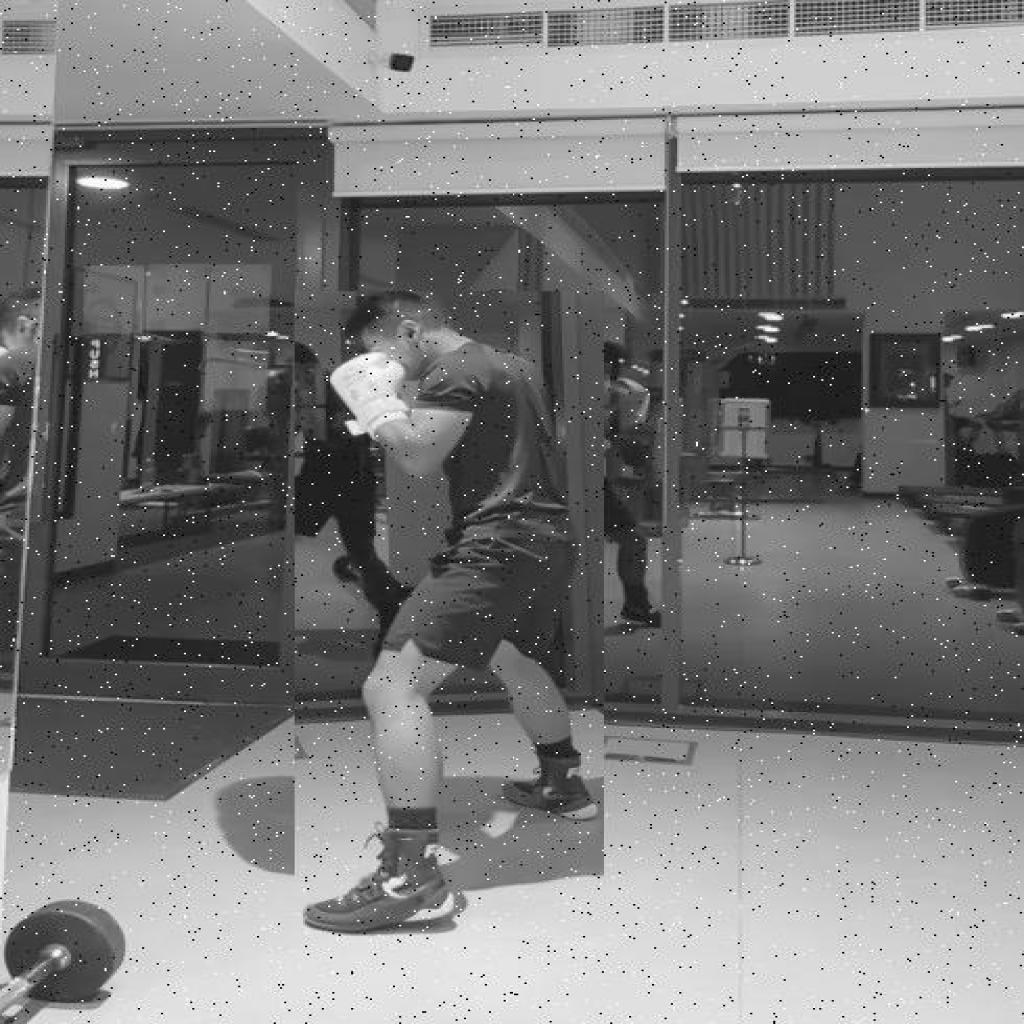no punch: (295, 292, 604, 938)
